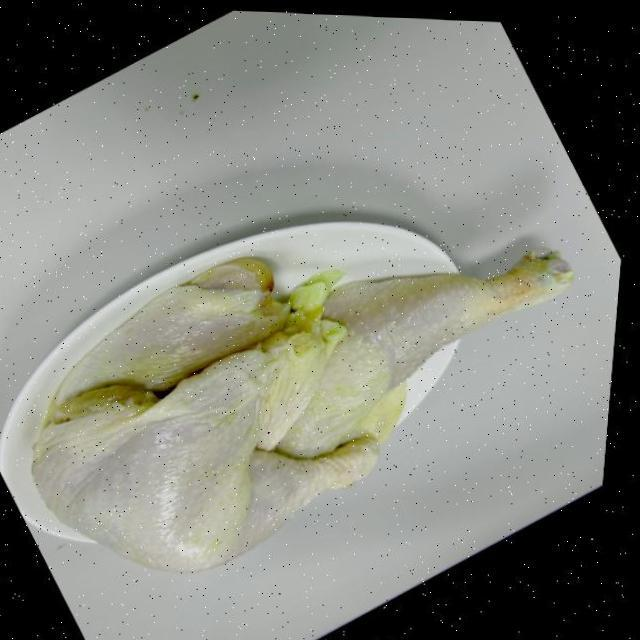quater: (225, 236, 572, 450), (32, 366, 378, 576)
